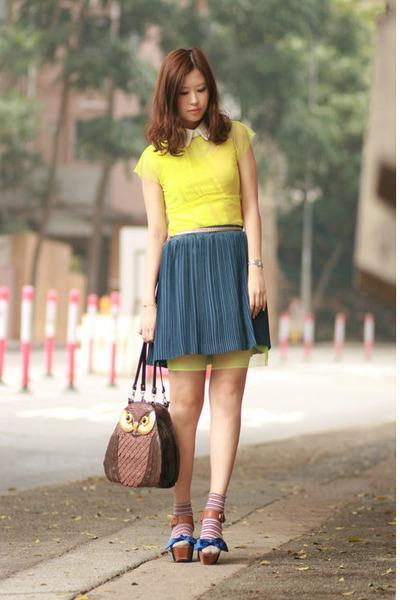bag: (103, 366, 179, 492)
shirt: (134, 121, 257, 234)
shoe: (169, 535, 228, 564)
skirt: (138, 212, 270, 371)
